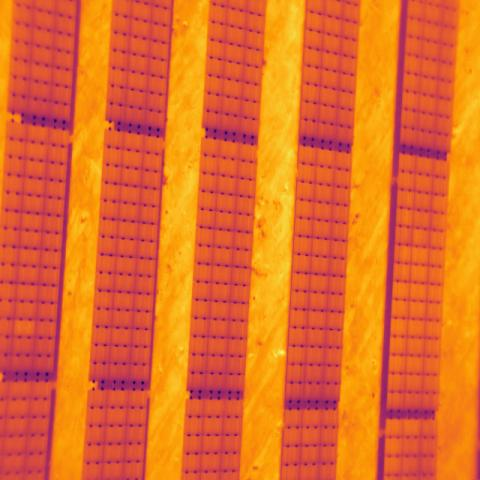fault: (15, 319, 35, 338)
